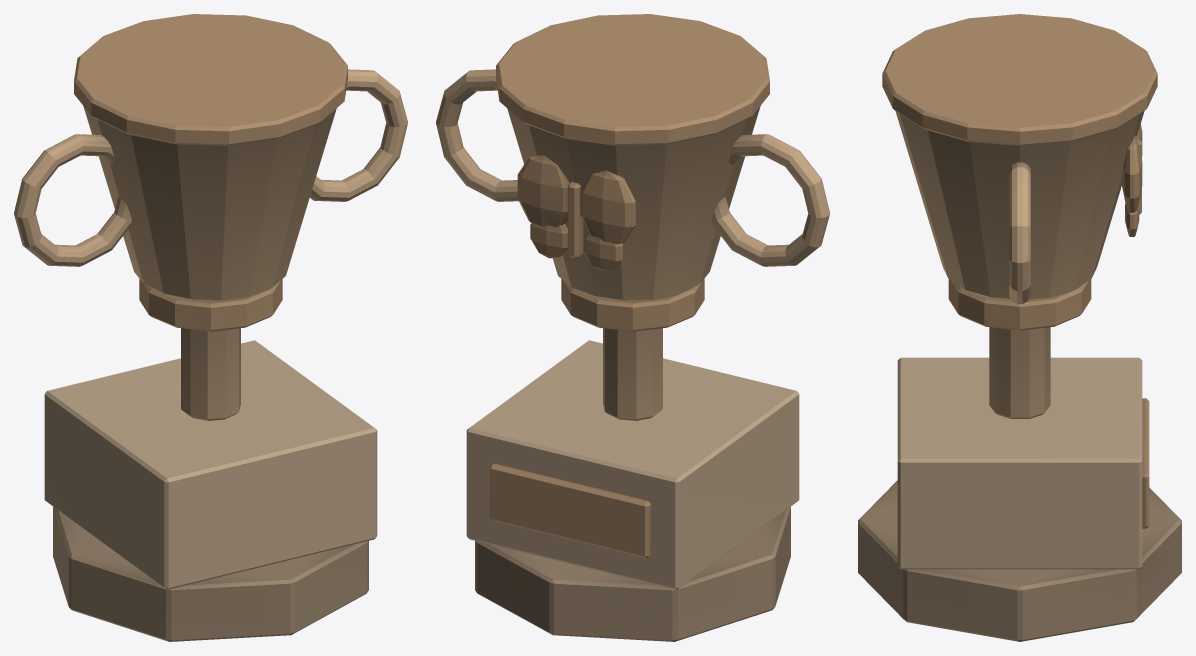
The model's file is event_trophy_bug_bronze.glb.
3 views of the same model, side by side, from view 1: azimuth 30°, elevation 25°; view 2: azimuth 150°, elevation 25°; view 3: azimuth 270°, elevation 25° (orthographic).
Size of the model in its own units: 0.441 by 0.545 by 0.3177.
